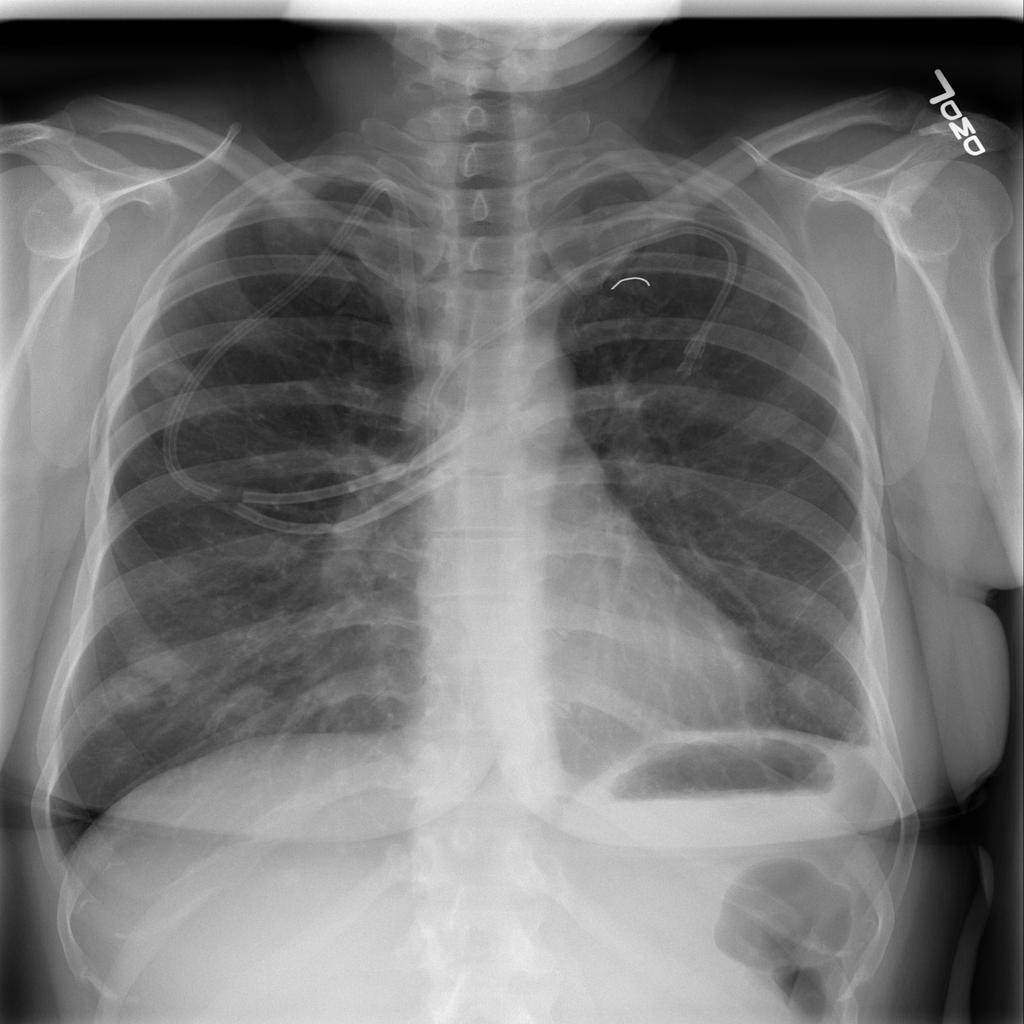nodule: (78, 628, 203, 730), (204, 669, 296, 741), (133, 349, 217, 413), (769, 656, 842, 726), (148, 546, 208, 590)
